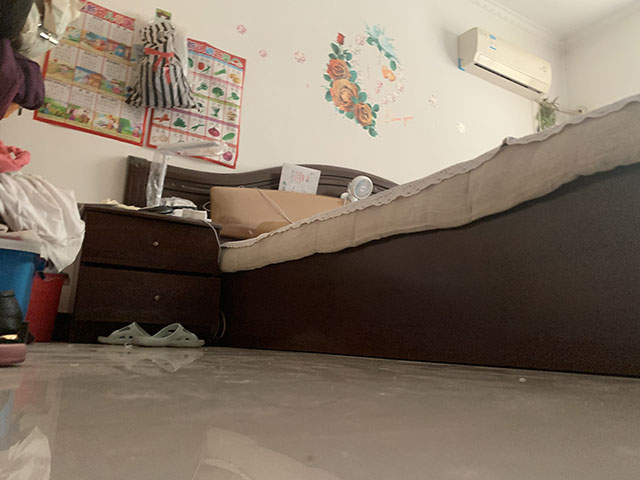bed: (122, 92, 640, 380)
cabinet: (65, 201, 223, 347)
slippers: (96, 319, 206, 347)
